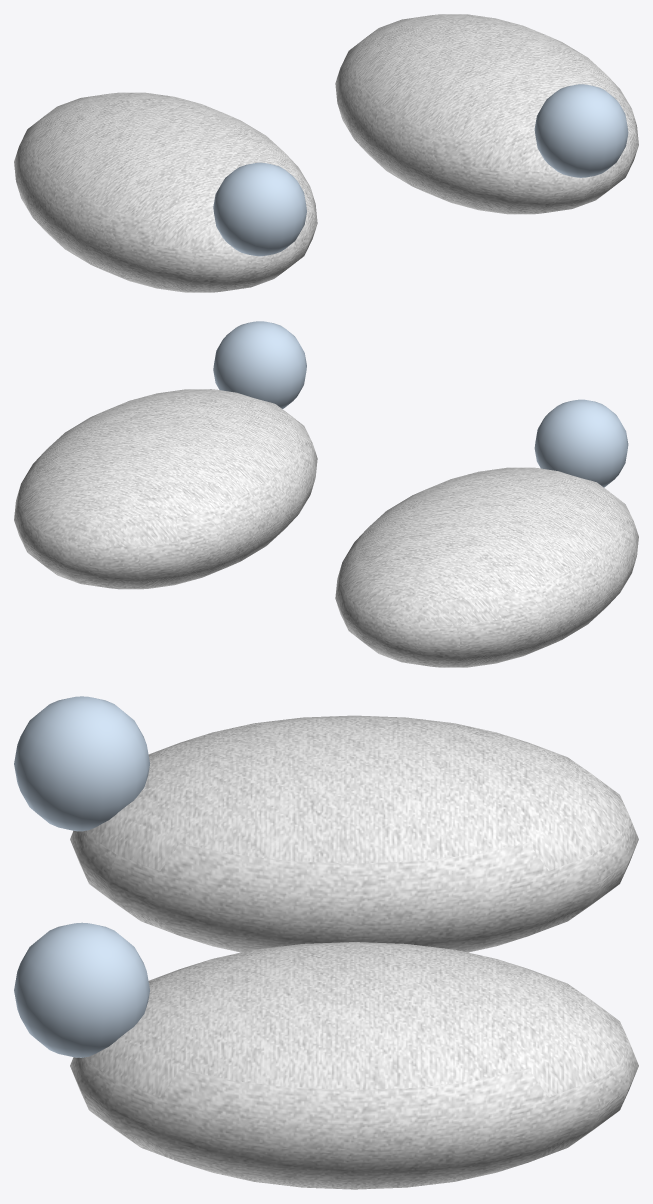
The model's file is slippers2.fbx.
3 renders of one model, top to bottom at view 1: azimuth 30°, elevation 25°; view 2: azimuth 150°, elevation 25°; view 3: azimuth 270°, elevation 25°, orthographic. The views are drawn at different scales.
Parts seen in each view (by area): view 1: slippers2; view 2: slippers2; view 3: slippers2.
Part boxes in pixels (x1,y1,x2,y2): slippers2: [14, 14, 638, 292]; slippers2: [14, 321, 638, 667]; slippers2: [14, 696, 638, 1189].
Bounding box in the file's own units: 0.61 × 0.16 × 0.413.
2 materials, 1 textured.
